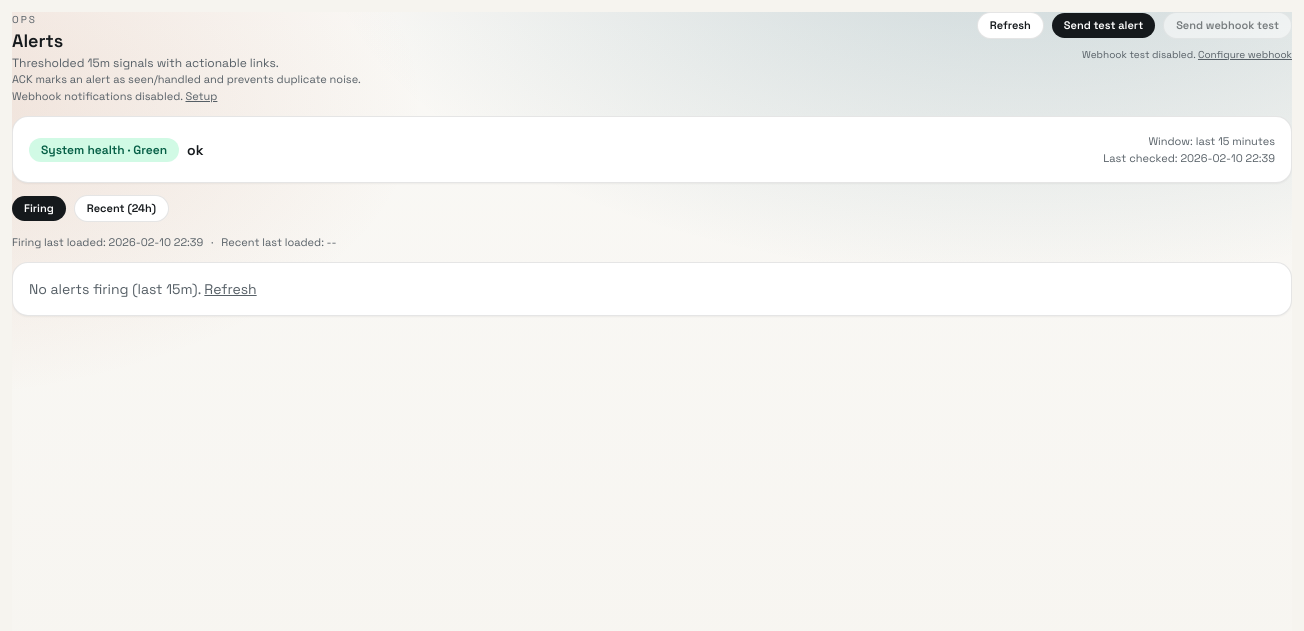
it: Ops alerts UI extras › auto-expands test events after sending a test alert
Click the button "Send test alert": point(1103, 25) [1052,13,1155,38]
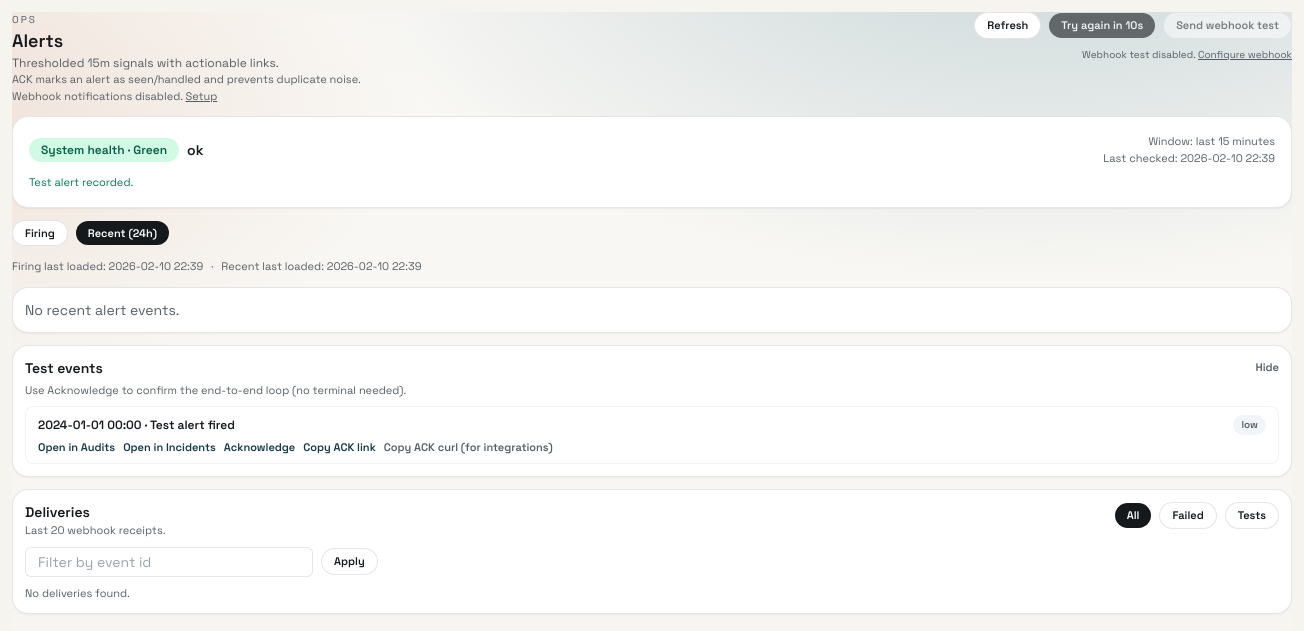
Result: the text "Test alert recorded." is shown at [29,175,133,189]
Result: the text "2024-01-01 00:00 · Test alert fired" is shown at [38,417,235,433]
Result: the button "Hide" is shown at [1256,359,1279,376]
